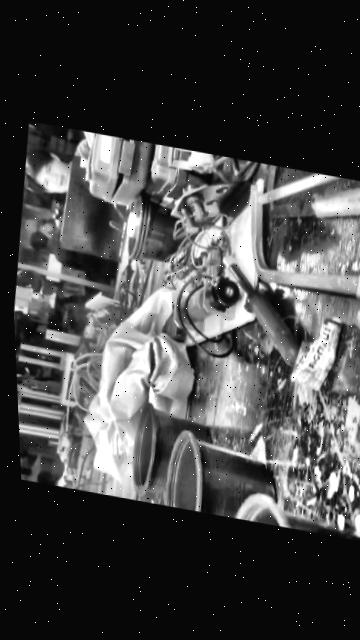pot: (159, 424, 284, 525), (131, 403, 209, 494), (235, 494, 360, 541)
